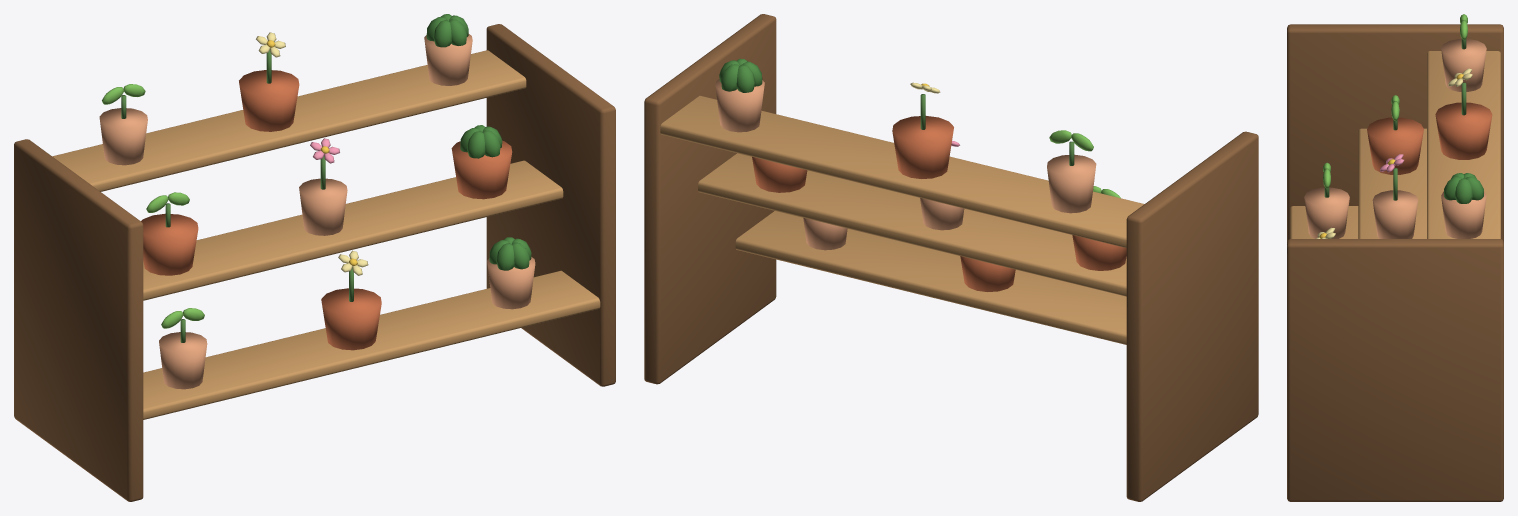
The model's file is plant-shelf.glb.
3 views of the same model, side by side, from view 1: azimuth 30°, elevation 25°; view 2: azimuth 150°, elevation 25°; view 3: azimuth 270°, elevation 25° (orthographic). The views are drawn at different scales.
Parts seen in each view (by area): view 1: shelf, pots; view 2: shelf, pots; view 3: shelf, pots.
Part boxes in pixels (x1,y1,x2,y2): shelf: (14,24,615,501); pots: (99,14,535,389); shelf: (644,14,1258,501); pots: (715,58,1126,291); shelf: (1287,24,1503,501); pots: (1304,14,1492,238).
Size of the model in its own units: 1.84 by 1.23 by 0.76.
